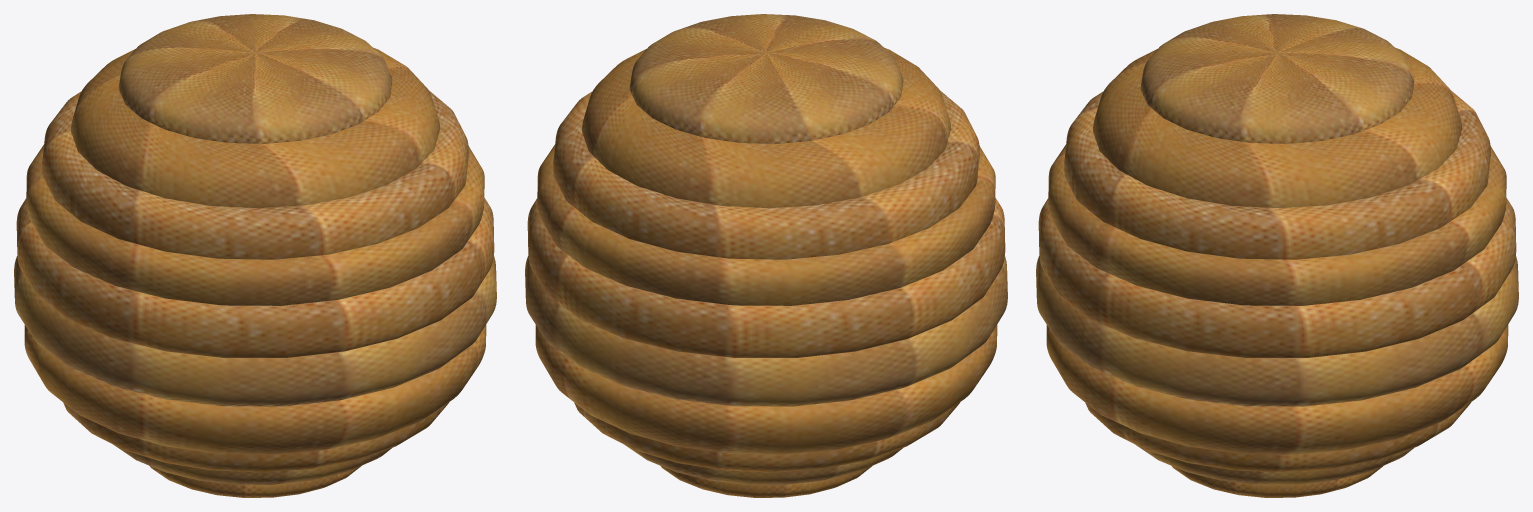
File: Honigwabe.fbx
3 views of the same model, side by side, from view 1: azimuth 30°, elevation 25°; view 2: azimuth 150°, elevation 25°; view 3: azimuth 270°, elevation 25° (orthographic).
Parts seen in each view (by area): view 1: Lathe; view 2: Lathe; view 3: Lathe.
Boxes of the visible parts, <box> form: Lathe: <box>14,14,496,497</box>; Lathe: <box>525,14,1007,497</box>; Lathe: <box>1036,14,1518,497</box>.
Bounding box in the file's own units: 1551 × 1456 × 1551.
1 material, 1 textured.
